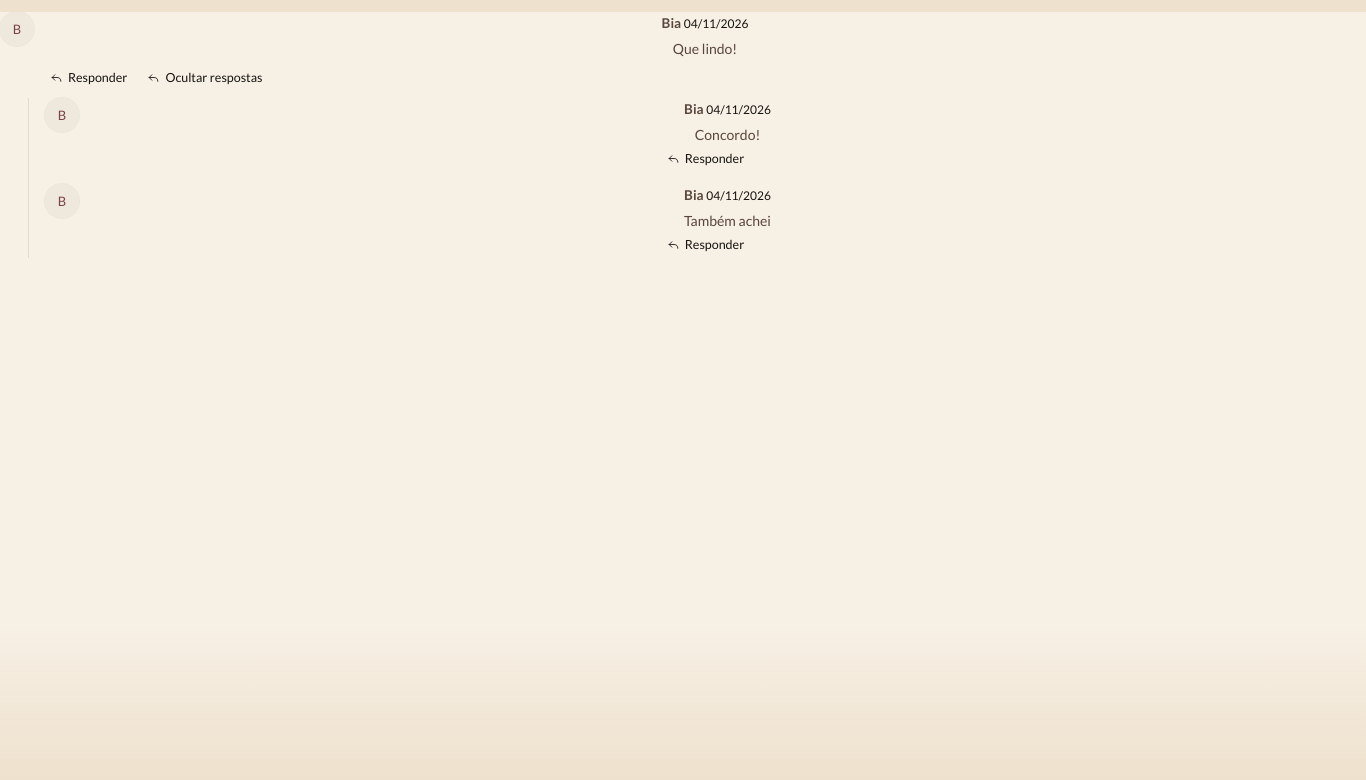
Test: CommentThread — respostas à vista (até 6), o resto recolhido › "Ocultar respostas" recolhe e "Ver 2 respostas" abre de novo
What coordinates should you click on to do the following:
click the button "Ocultar respostas"
I would click on:
 (205, 78)
Its box is [145,65,264,90].
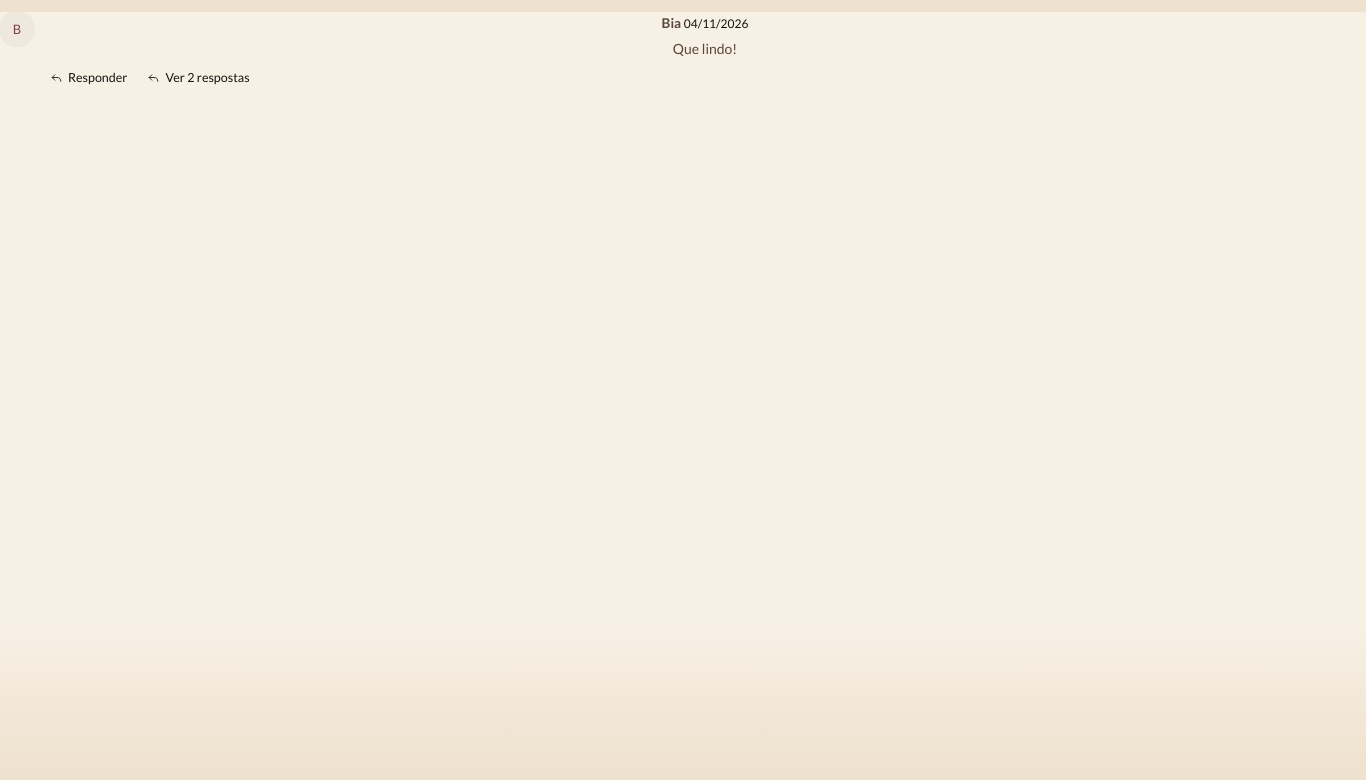
Now the text "Concordo!" is gone
What coordinates should you click on to do the following:
click the button "Ver 2 respostas"
I would click on:
 (198, 78)
Its box is [145,65,252,90].
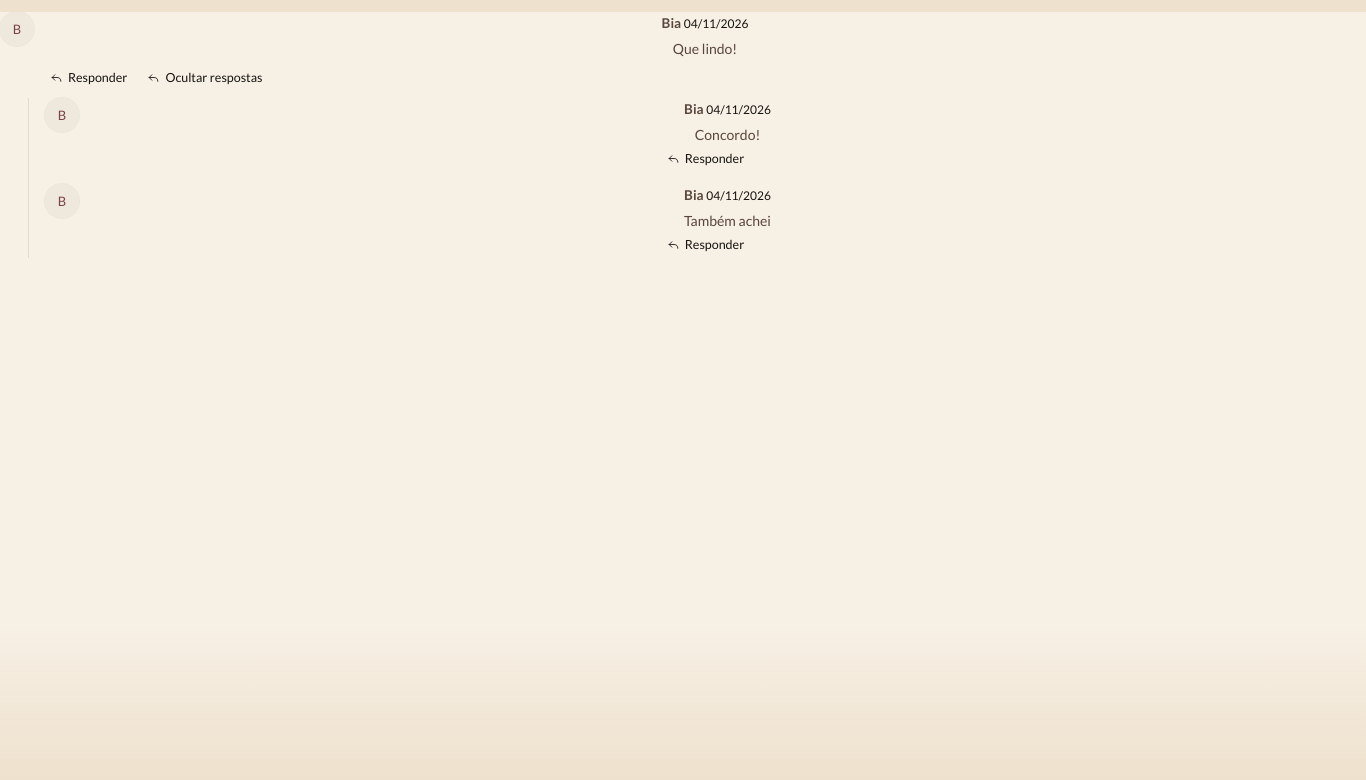
Now the text "Concordo!" is shown, box [695,126,760,143]
